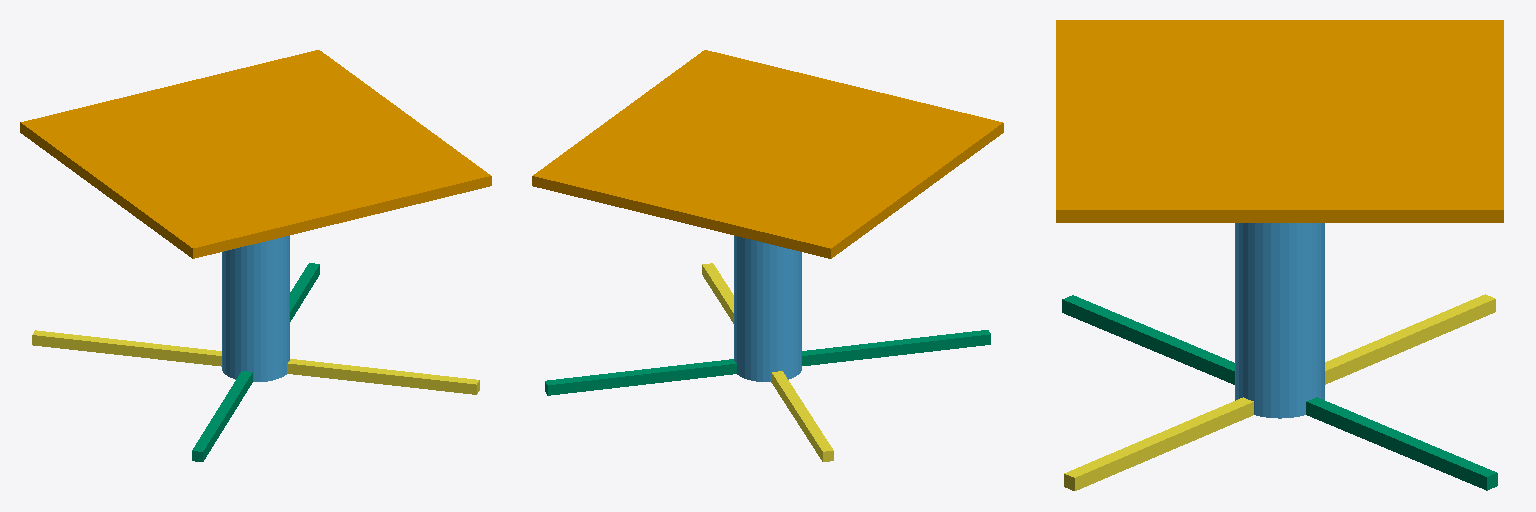
The robot description file, URDF, robot "race_tray":
<robot name="race_tray">

  <link name="plate">
    <inertial>
      <origin xyz="0.0 0.0 0.005" /> 
      <mass value="0.5" />
      <inertia  ixx="1" ixy="0.0"  ixz="0.0"  iyy="1" iyz="0.0"  izz="1" />
    </inertial>
    <visual>
      <origin xyz="0 0 0.005" /> 
      <geometry>
        <box size="0.3 0.3 0.01" />
      </geometry>
    </visual>
    <collision>
      <origin xyz="0 0 0.005" /> 
      <geometry>
        <box size="0.3 0.3 0.01" />
      </geometry>
    </collision>
  </link>

  <joint name="pl_ha" type="fixed">
    <parent link="plate"/>
    <child link="handle"/>
  </joint>

  <link name="handle">
    <inertial>
      <origin xyz="0 0 -0.1" /> 
      <mass value="0.2" />
      <inertia  ixx="1" ixy="0.0"  ixz="0.0"  iyy="1" iyz="0.0"  izz="1" />
    </inertial>
    <visual>
      <origin xyz="0 0 -0.1" /> 
      <geometry>
        <cylinder length="0.2" radius="0.03" />
      </geometry>
    </visual>
    <collision>
      <origin xyz="0 0 -0.1" /> 
      <geometry>
        <cylinder length="0.2" radius="0.03" />
      </geometry>
    </collision>
  </link>

  <joint name="ha_foot1" type="fixed">
    <parent link="handle"/>
    <child link="foot1"/>
  </joint>

  <link name="foot1">
    <inertial>
      <origin xyz="-0.0 -0.0 -0.195" rpy="0 0 0.79" /> 
      <mass value="0.1" />
      <inertia  ixx="1" ixy="0.0"  ixz="0.0"  iyy="1" iyz="0.0"  izz="1" />
    </inertial>
    <visual>
      <origin xyz="-0.0 -0.0 -0.195" rpy="0 0 0.79" />
      <geometry>
        <box size="-0.4 -0.01 0.01"/>
      </geometry>
    </visual>
    <collision>
      <origin xyz="0 0 -0.195" />
      <geometry>
        <!--Collision shape is defined in foot2-->
        <box size="0.005 0.005 0.005" />
      </geometry>
    </collision>
  </link>

  <joint name="ha_foot2" type="fixed">
    <parent link="handle"/>
    <child link="foot2"/>
  </joint>

  <link name="foot2">
    <inertial>
      <origin xyz="-0.0 -0.0 -0.195" rpy="0 0 2.36" /> 
      <mass value="0.1" />
      <inertia  ixx="1" ixy="0.0"  ixz="0.0"  iyy="1" iyz="0.0"  izz="1" />
    </inertial>
    <visual>
      <origin xyz="-0.0 -0.0 -0.195" rpy="0 0 2.36" />
      <geometry>
        <box size="-0.4 -0.01 0.01"/>
      </geometry>
    </visual>
    <collision>
      <origin xyz="0 0 -0.195" /> 
      <geometry>
        <!--Define a box of the shape of the plate-->
        <box size="0.3 0.3 0.01" />
      </geometry>
    </collision>
  </link>

  <gazebo reference="plate">
    <material>Gazebo/Blue</material>
  </gazebo>
  <gazebo reference="handle">
    <material>Gazebo/Red</material>
  </gazebo>

</robot>

--- Facts derived from the render (not from the file) ---
3 views of the same robot in one strip: view 1: azimuth 30°, elevation 25°; view 2: azimuth 150°, elevation 25°; view 3: azimuth 270°, elevation 25° (orthographic).
Robot: race_tray — 4 links, 3 joints (3 fixed); root link plate; default pose: every joint at zero.
Links seen in each view (by area): view 1: plate, handle, foot2, foot1; view 2: plate, handle, foot1, foot2; view 3: plate, handle, foot1, foot2.
Link boxes in pixels (<box>): plate: <box>20,50,491,258</box>; handle: <box>222,235,289,381</box>; foot2: <box>32,330,479,394</box>; foot1: <box>192,263,319,461</box>; plate: <box>532,50,1003,258</box>; handle: <box>734,236,801,381</box>; foot1: <box>545,330,990,395</box>; foot2: <box>702,263,833,461</box>; plate: <box>1056,20,1503,222</box>; handle: <box>1235,223,1324,418</box>; foot1: <box>1062,295,1497,490</box>; foot2: <box>1064,294,1495,490</box>.
Bounding box of the posed robot: 0.3 × 0.3 × 0.21 m (x, y, z).
Geometry: primitives only (box / cylinder / sphere), no mesh files.
